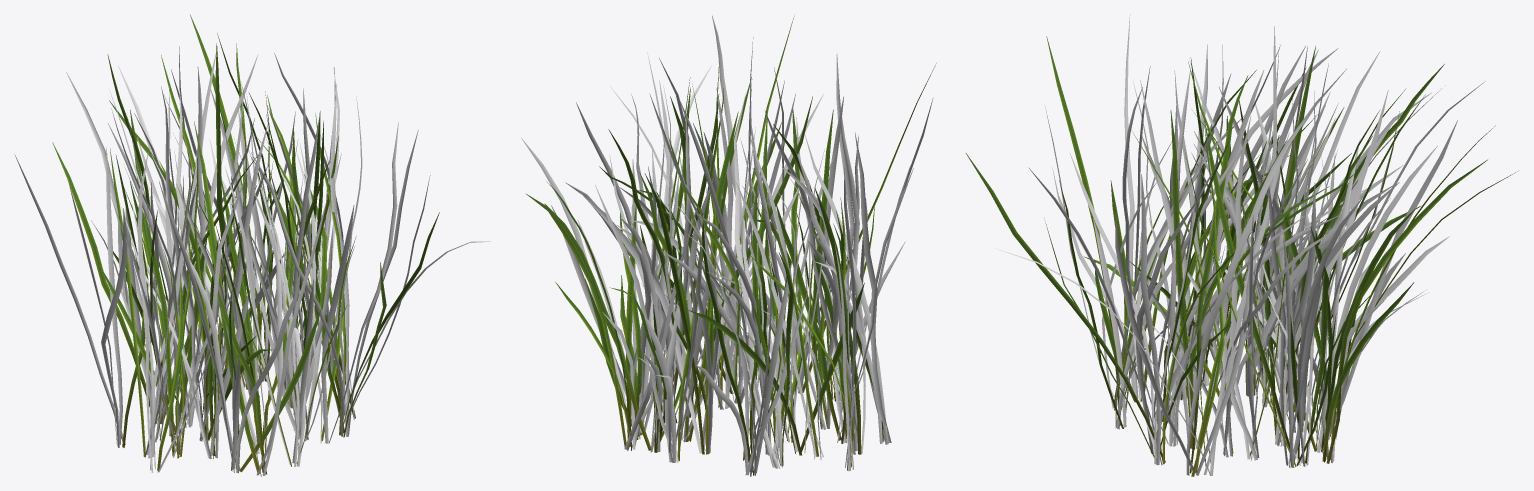
File: grass.fbx
3 renders of one model, left to right at view 1: azimuth 30°, elevation 25°; view 2: azimuth 150°, elevation 25°; view 3: azimuth 270°, elevation 25°, orthographic. The views are drawn at different scales.
Visible parts, largest first — view 1: Wild Grass Patch 3; view 2: Wild Grass Patch 3; view 3: Wild Grass Patch 3.
Boxes of the visible parts, left/top/right/bottom form: Wild Grass Patch 3: left=14, top=14, right=490, bottom=476; Wild Grass Patch 3: left=521, top=15, right=936, bottom=476; Wild Grass Patch 3: left=966, top=14, right=1517, bottom=476.
Size of the model in its own units: 26.98 by 29.22 by 37.78.
Materials: 2 (1 with a texture image).
